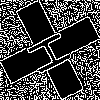H: (25, 25, 82, 77)
